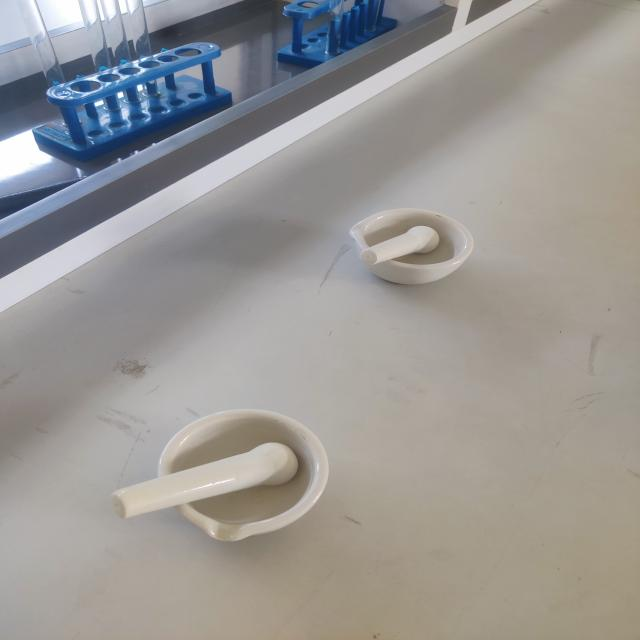Porcelain_Mortar Pestle: (86, 373, 370, 595), (336, 184, 500, 303)
